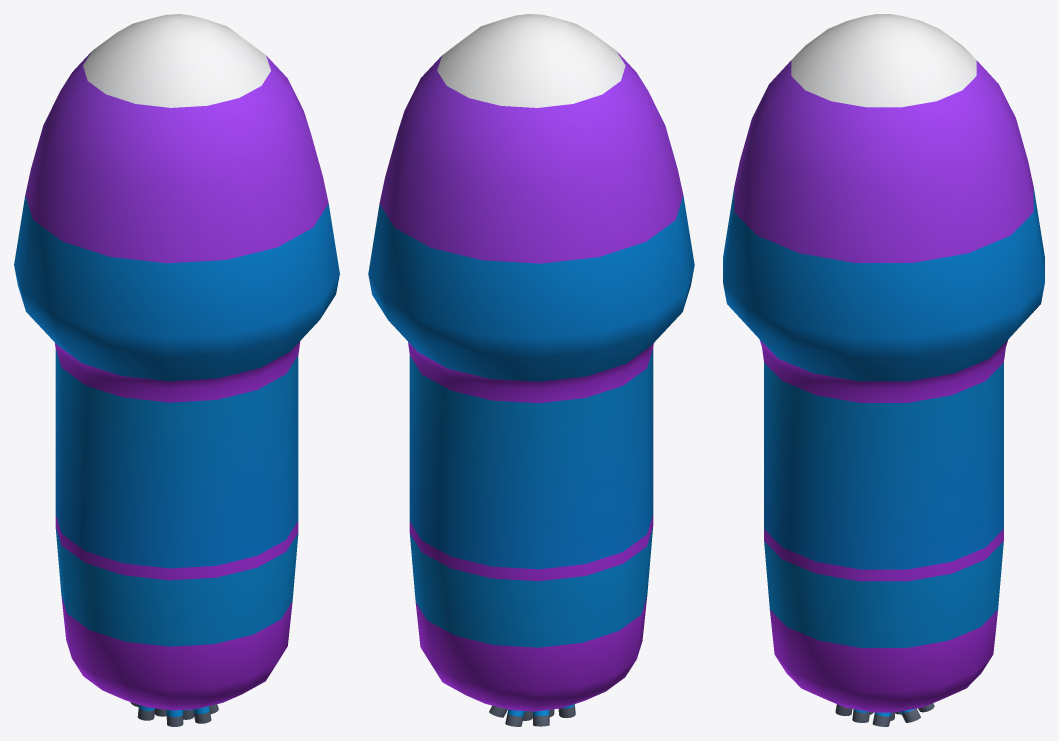
File: F_P_Fireworks_4_3.FBX
The picture shows the model from 3 angles, left to right: view 1: azimuth 30°, elevation 25°; view 2: azimuth 150°, elevation 25°; view 3: azimuth 270°, elevation 25°; orthographic projection.
Visible parts, largest first — view 1: F_P_Fireworks_4_3; view 2: F_P_Fireworks_4_3; view 3: F_P_Fireworks_4_3.
Boxes of the visible parts, left/top/right/bottom form: F_P_Fireworks_4_3: left=14, top=14, right=339, bottom=726; F_P_Fireworks_4_3: left=368, top=14, right=694, bottom=726; F_P_Fireworks_4_3: left=723, top=14, right=1044, bottom=726.
Size of the model in its own units: 54.97 by 131 by 54.97.
